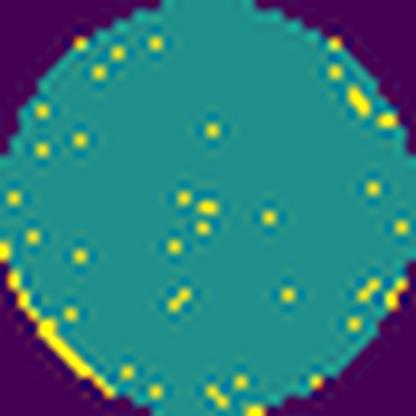Edge-Loc: (8, 273, 122, 401)
